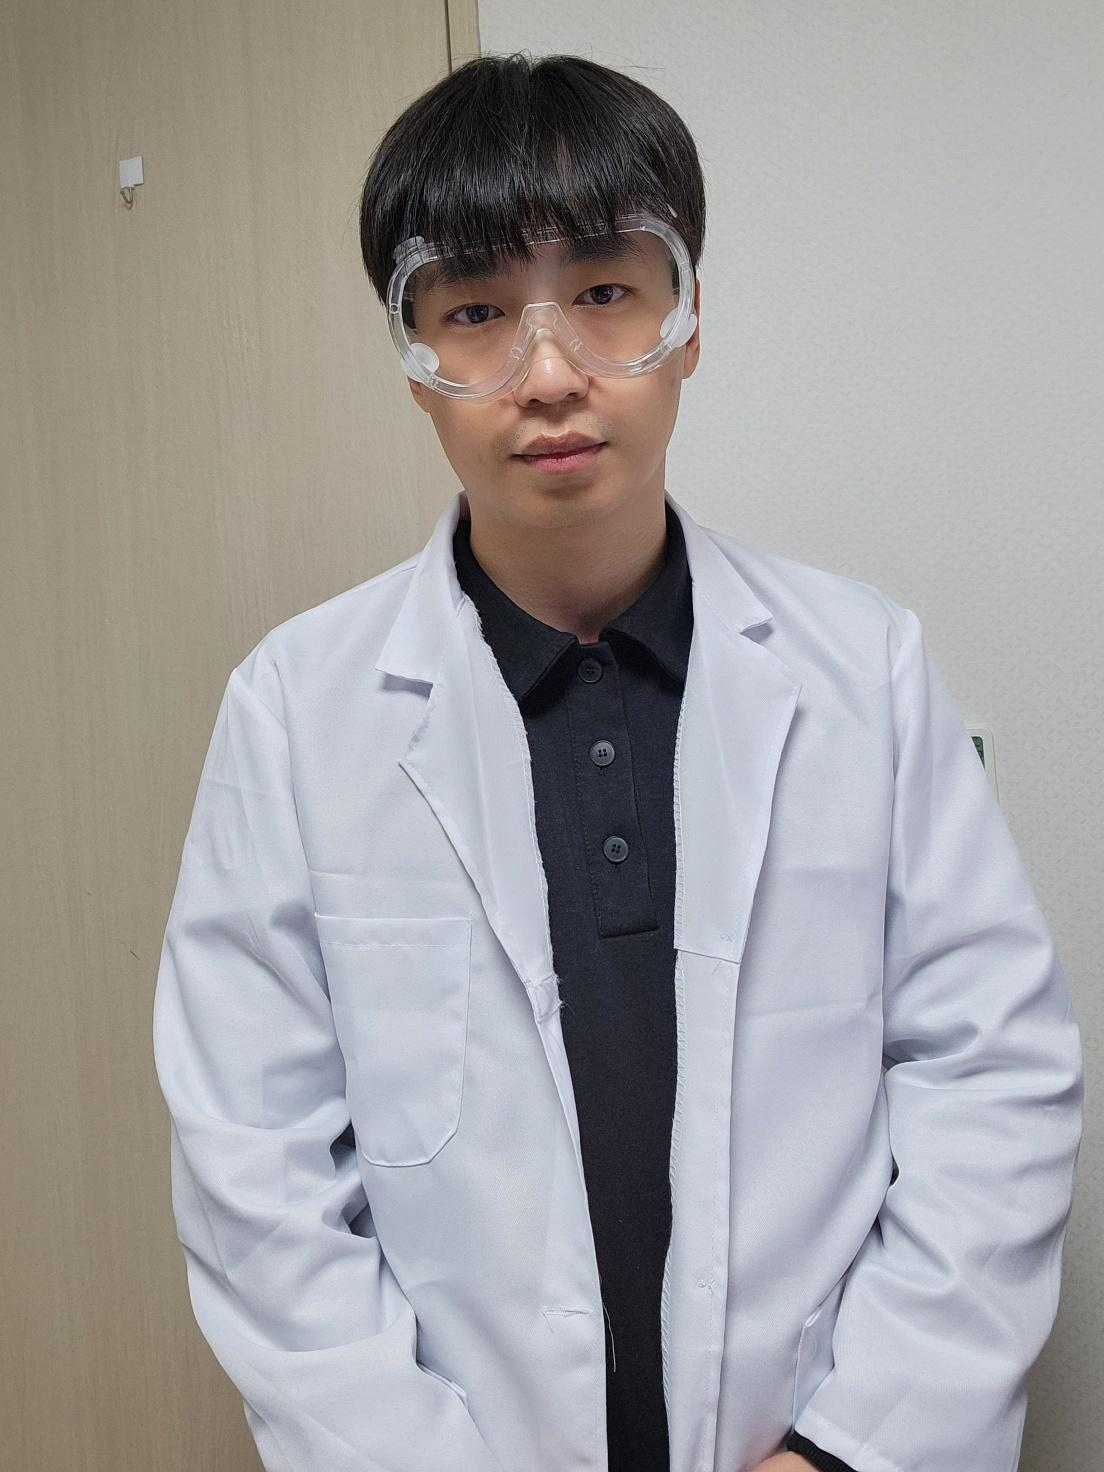lab_coat: (155, 489, 1081, 1471)
